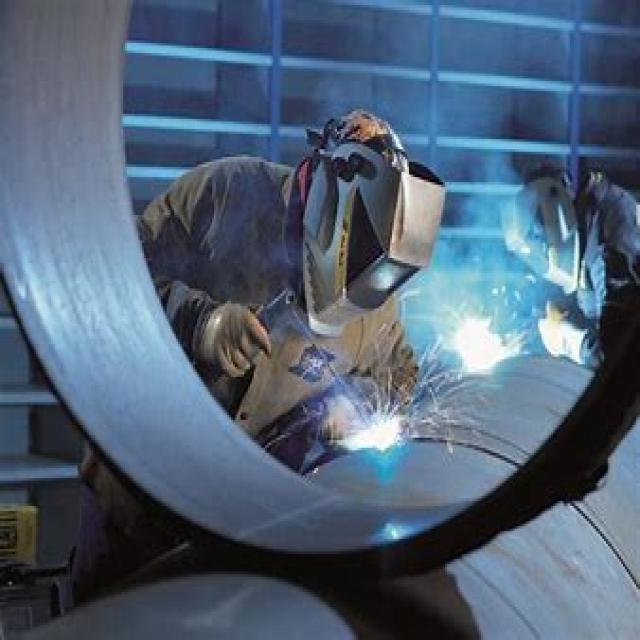with_helmet: (290, 102, 451, 336), (492, 157, 610, 313)
